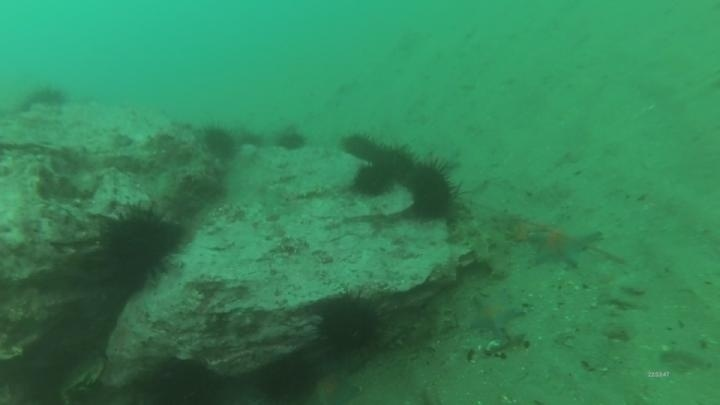echinus: (94, 202, 184, 291), (313, 290, 388, 360), (140, 355, 224, 404), (404, 156, 463, 223), (256, 354, 319, 404), (373, 142, 417, 184), (351, 161, 396, 199), (18, 82, 69, 114), (340, 131, 385, 164), (200, 124, 239, 162), (274, 126, 308, 154)
holothurian: (404, 295, 454, 353), (448, 212, 490, 280), (482, 211, 524, 279)
starfish: (525, 217, 603, 271), (464, 290, 527, 337), (307, 369, 360, 405)
